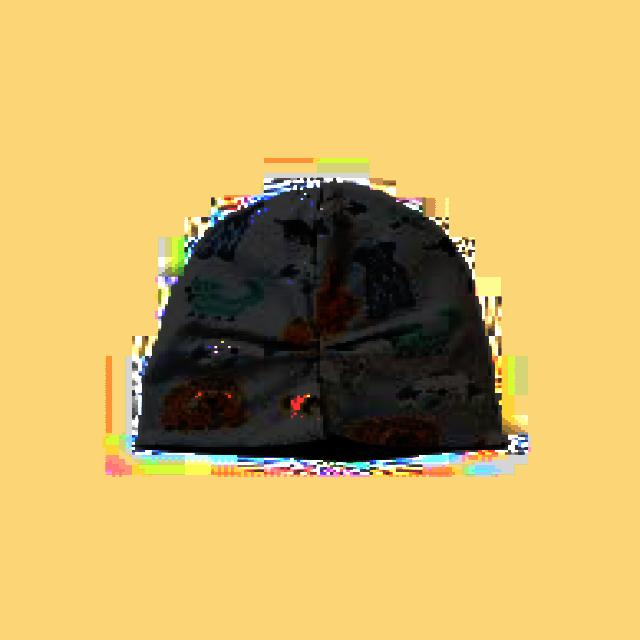TOPI: (129, 173, 508, 460)
